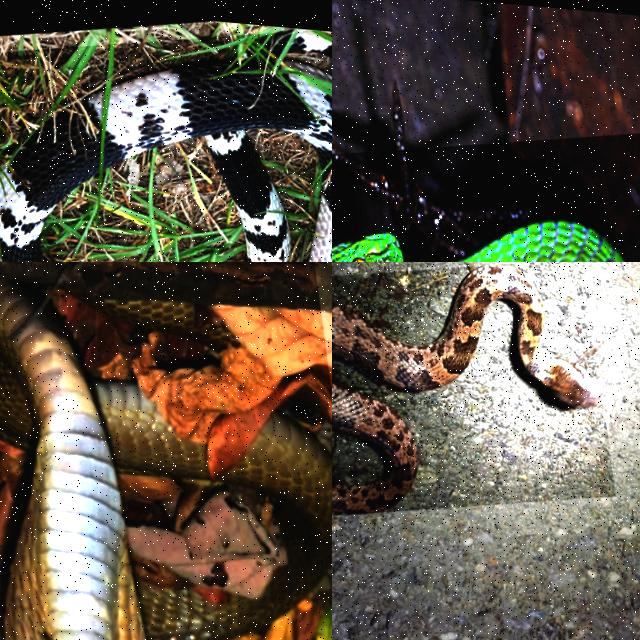Naja kaouthia: (0, 59, 331, 261)
Naja siamensis: (0, 282, 331, 639)
Ovophis monticola: (332, 265, 601, 407)
Trimeresurus macrops: (455, 220, 623, 261)
